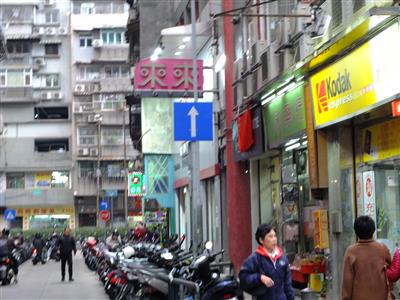oneway: (170, 98, 217, 143)
